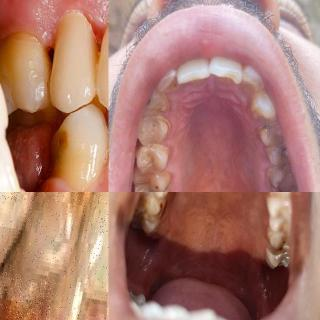Gum Swelling: (23, 0, 108, 45), (51, 165, 108, 192)
cavities: (34, 192, 108, 216), (272, 239, 294, 256), (274, 143, 288, 164), (260, 119, 275, 137), (151, 178, 170, 192), (267, 180, 287, 192), (141, 95, 155, 111)
maligned: (237, 65, 269, 97), (180, 55, 209, 90), (212, 59, 243, 89), (156, 64, 178, 98)
plaque: (82, 40, 108, 96), (144, 142, 173, 172), (145, 115, 173, 143), (246, 96, 270, 121), (264, 168, 284, 192), (254, 118, 270, 142), (155, 94, 173, 112), (263, 144, 277, 166)
